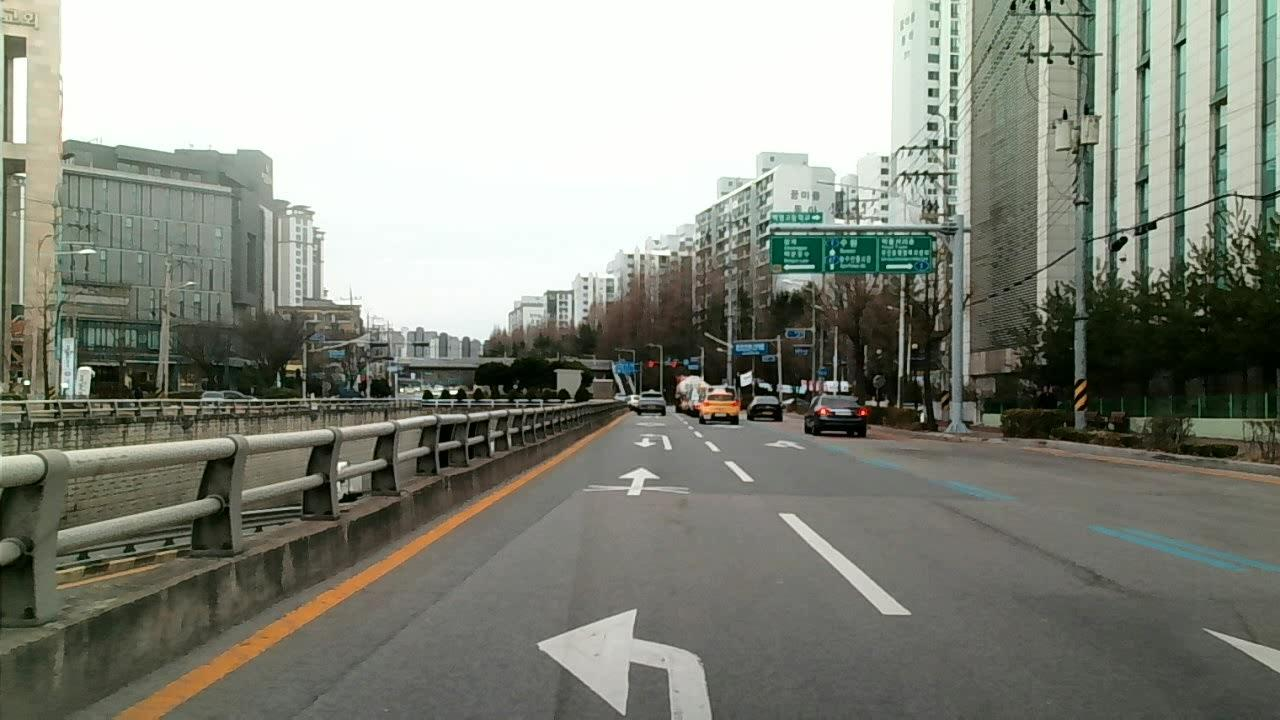banner: (293, 603, 435, 720), (945, 497, 1120, 586), (438, 500, 571, 597)
